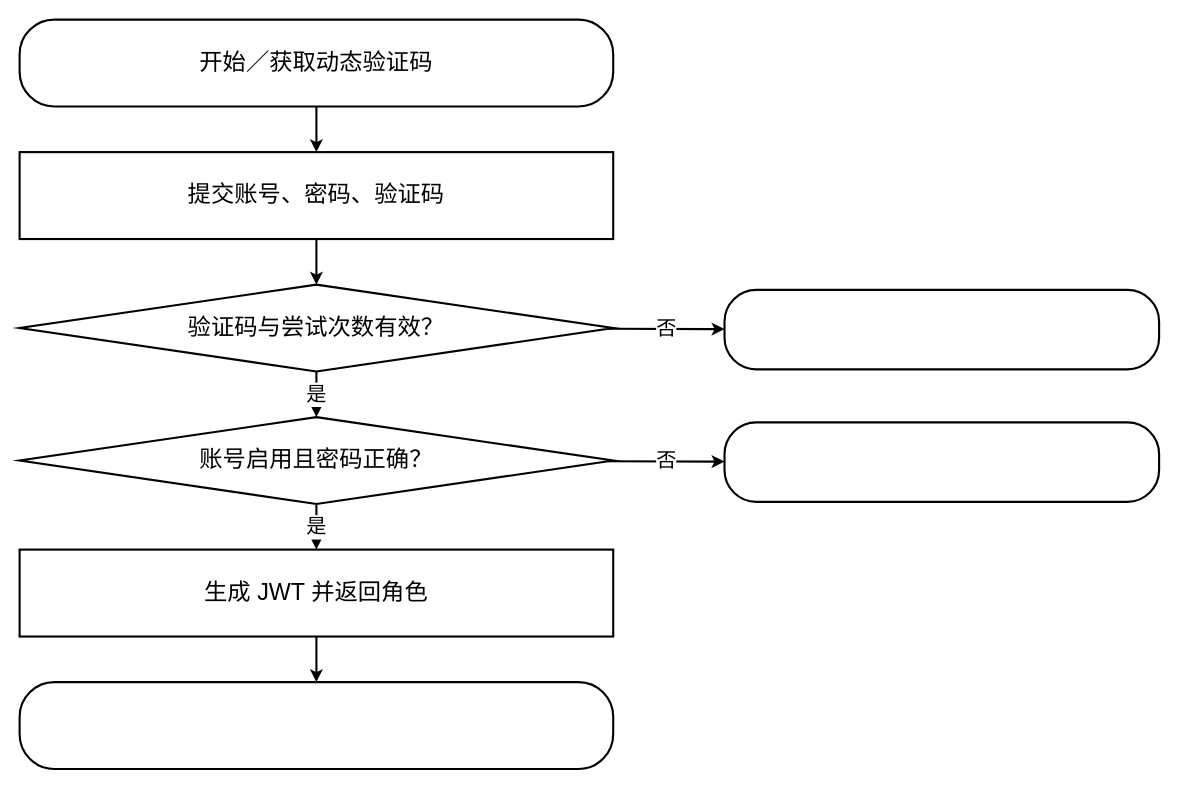
Some shapes in this 1178 by 788 pixel diagram are drawn without their labels. Each missing label, with the box of its shape:
认证失败并记录尝试: (723, 421, 1160, 502)
进入对应工作区: (18, 681, 614, 770)
验证码失败／限制尝试: (723, 288, 1160, 370)
